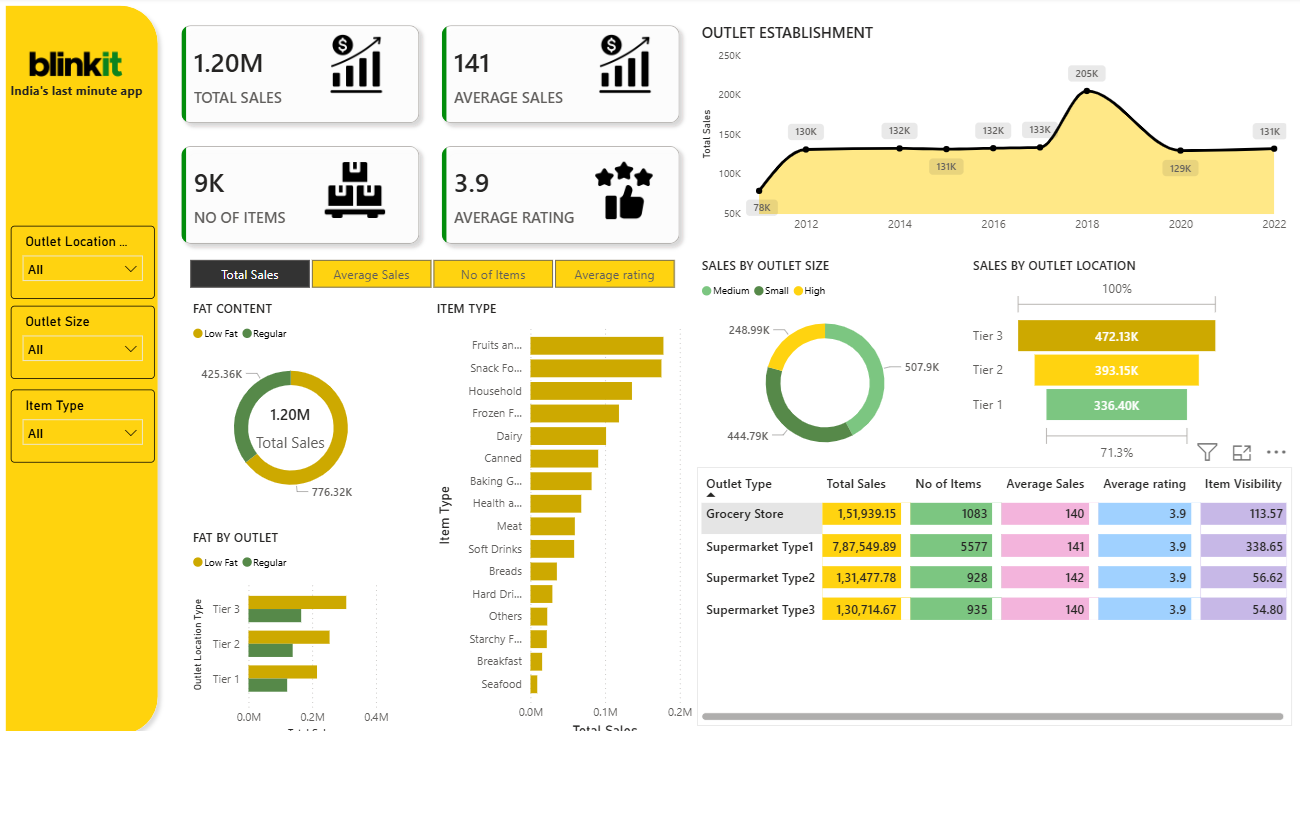

What the dashboard file says about the page in this screenshot:
{"tool":"powerbi","page":{"name":"Page 1","canvas":[1400,800],"ordinal":0},"visuals":[{"type":"shape","box":[0,0,181.5,800],"z":0},{"type":"image","box":[8.8,0,150.2,144.4],"z":1000},{"type":"cardVisual","fields":{"Data":["BlinkIT Grocery Data.Total Sales","BlinkIT Grocery Data.Average Sales","BlinkIT Grocery Data.No of Items","BlinkIT Grocery Data.Average rating"]},"box":[181.3,13.8,569.5,270],"z":2000},{"type":"image","box":[344.4,35.1,81,74.1],"z":3000},{"type":"image","box":[632.2,35.1,81,74.1],"z":4000},{"type":"image","box":[637.1,170.7,71.2,74.1],"z":5000},{"type":"image","box":[341.5,170.7,83.9,74.1],"z":6000},{"type":"slicer","fields":{"Values":["Metrics.Metrics"]},"box":[181.5,274.1,569.8,43.9],"z":7000},{"type":"donutChart","title":"FAT CONTENT","fields":{"Y":["BlinkIT Grocery Data.Total Sales"],"Category":["BlinkIT Grocery Data.Item Fat Content"]},"box":[204.9,324.9,220.5,230.2],"z":8000},{"type":"card","fields":{"Values":["BlinkIT Grocery Data.Total Sales"]},"box":[271.2,429.3,87.8,64.4],"z":9000},{"type":"clusteredBarChart","title":"FAT BY OUTLET","fields":{"Y":["BlinkIT Grocery Data.Total Sales"],"Series":["BlinkIT Grocery Data.Item Fat Content"],"Category":["BlinkIT Grocery Data.Outlet Location Type"]},"box":[204.9,569.8,220.5,230.2],"z":10000},{"type":"clusteredBarChart","title":"ITEM TYPE","fields":{"Y":["BlinkIT Grocery Data.Total Sales"],"Category":["BlinkIT Grocery Data.Item Type"]},"box":[466.3,324.9,284.9,475.1],"z":11000},{"type":"lineChart","title":"OUTLET ESTABLISHMENT","fields":{"Category":["BlinkIT Grocery Data.Outlet Establishment Year"],"Y":["BlinkIT Grocery Data.Total Sales"]},"box":[751.2,26.3,637.1,235.1],"z":12000},{"type":"donutChart","title":"SALES BY OUTLET SIZE","fields":{"Y":["BlinkIT Grocery Data.Total Sales"],"Category":["BlinkIT Grocery Data.Outlet Size"]},"box":[751.2,279,275,225],"z":13000},{"type":"funnel","title":"SALES BY OUTLET LOCATION","fields":{"Y":["BlinkIT Grocery Data.Total Sales"],"Category":["BlinkIT Grocery Data.Outlet Location Type"]},"box":[1042,279,275.1,225.4],"z":14000},{"type":"pivotTable","title":"OUTLET LOCATION","fields":{"Rows":["BlinkIT Grocery Data.Outlet Type"],"Values":["BlinkIT Grocery Data.Total Sales","BlinkIT Grocery Data.No of Items","BlinkIT Grocery Data.Average Sales","BlinkIT Grocery Data.Average rating","Sum(BlinkIT Grocery Data.Item Visibility)"]},"box":[751.2,504.4,637.1,277.1],"z":15000},{"type":"slicer","fields":{"Values":["BlinkIT Grocery Data.Outlet Location Type"]},"box":[14.6,244.9,154.1,78],"z":16000},{"type":"slicer","fields":{"Values":["BlinkIT Grocery Data.Outlet Size"]},"box":[14.6,331.7,154.1,78],"z":17000},{"type":"slicer","fields":{"Values":["BlinkIT Grocery Data.Item Type"]},"box":[14.6,421.5,154.1,78],"z":18000},{"type":"textbox","box":[9.8,85.9,159,44.9],"z":19000}]}

Visuals, with their boxes on the page's 1400x800 design canvas (x1, y1, x2, y2). These are canvas units, not pixel positions in the 1307x828 screenshot, which may show the page scaled, cropped or inside an application window:
shape: rect(0, 0, 182, 800)
image: rect(9, 0, 159, 144)
cardVisual - BlinkIT Grocery Data.Total Sales x BlinkIT Grocery Data.Average Sales: rect(181, 14, 751, 284)
image: rect(344, 35, 425, 109)
image: rect(632, 35, 713, 109)
image: rect(637, 171, 708, 245)
image: rect(342, 171, 425, 245)
slicer - Metrics.Metrics: rect(182, 274, 751, 318)
"FAT CONTENT" donutChart: rect(205, 325, 425, 555)
card - BlinkIT Grocery Data.Total Sales: rect(271, 429, 359, 494)
"FAT BY OUTLET" clusteredBarChart: rect(205, 570, 425, 800)
"ITEM TYPE" clusteredBarChart: rect(466, 325, 751, 800)
"OUTLET ESTABLISHMENT" lineChart: rect(751, 26, 1388, 261)
"SALES BY OUTLET SIZE" donutChart: rect(751, 279, 1026, 504)
"SALES BY OUTLET LOCATION" funnel: rect(1042, 279, 1317, 504)
"OUTLET LOCATION" pivotTable: rect(751, 504, 1388, 782)
slicer - BlinkIT Grocery Data.Outlet Location Type: rect(15, 245, 169, 323)
slicer - BlinkIT Grocery Data.Outlet Size: rect(15, 332, 169, 410)
slicer - BlinkIT Grocery Data.Item Type: rect(15, 422, 169, 500)
textbox: rect(10, 86, 169, 131)
